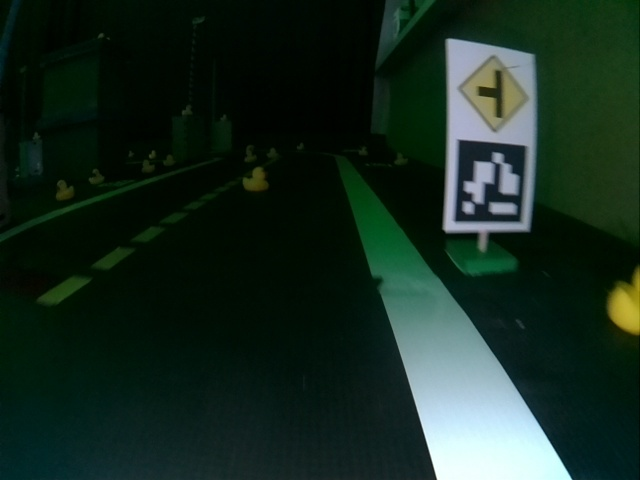Duckie: (607, 267, 639, 335), (243, 168, 268, 191), (55, 180, 73, 201), (89, 170, 104, 183), (142, 160, 154, 172), (395, 152, 406, 165), (245, 145, 255, 157), (182, 105, 192, 115), (298, 143, 307, 153), (269, 149, 277, 158), (358, 148, 367, 156), (166, 155, 174, 164)
Intersection sign: (454, 48, 532, 134)
QR code: (450, 140, 530, 227)
